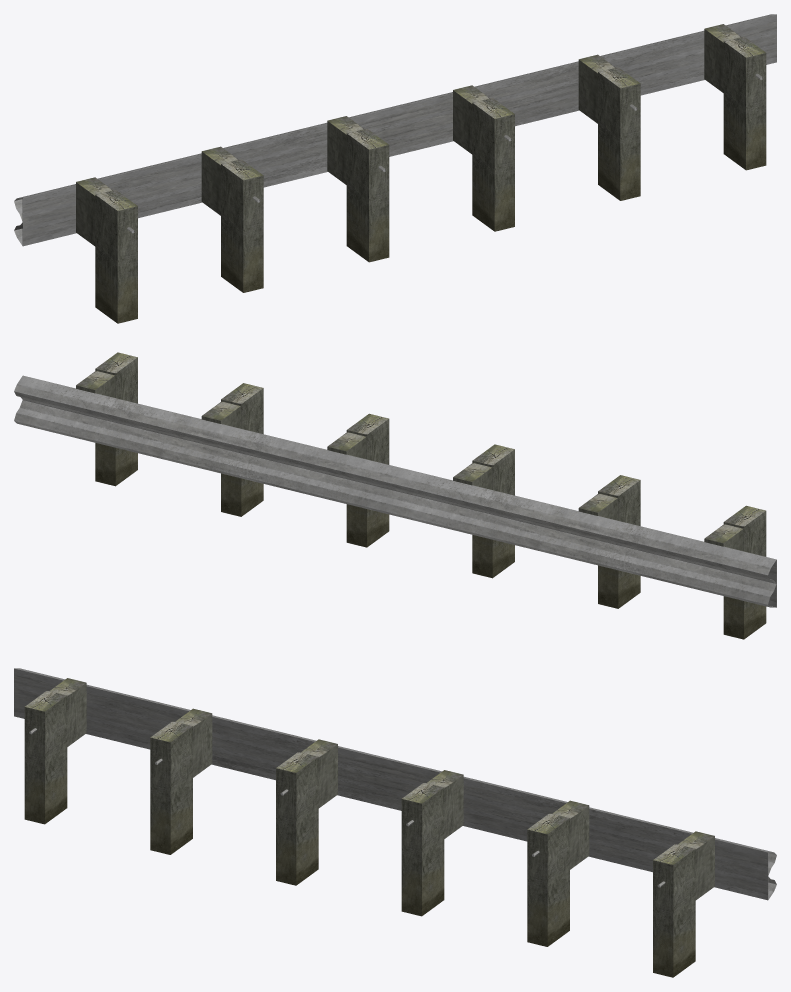
The model's file is roadfence.obj.
The picture shows the model from 3 angles, top to bottom: view 1: azimuth 30°, elevation 25°; view 2: azimuth 150°, elevation 25°; view 3: azimuth 330°, elevation 25°; orthographic projection.
Visible parts, largest first — view 1: SM_Fence_01.001, cube; view 2: SM_Fence_01.001, cube; view 3: SM_Fence_01.001, cube.
Part boxes in pixels (<box>): SM_Fence_01.001: <box>14,14,774,323</box>; cube: <box>22,14,776,246</box>; SM_Fence_01.001: <box>14,352,776,639</box>; cube: <box>23,375,776,607</box>; SM_Fence_01.001: <box>16,668,776,977</box>; cube: <box>14,668,768,900</box>.
Bounding box in the file's own units: 3.5 × 0.5 × 0.4484.
1 material, 1 textured.
